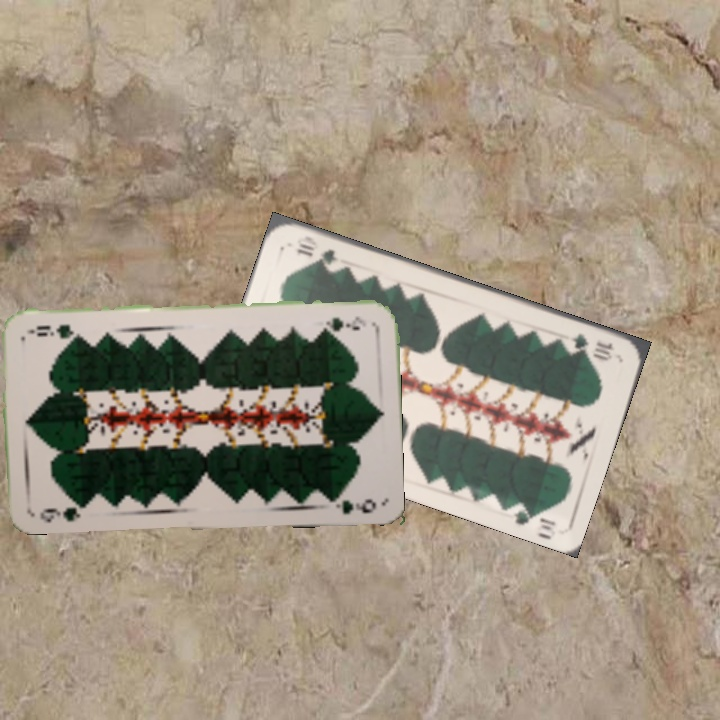G10: (567, 329, 617, 363)
G9: (36, 498, 88, 525), (319, 312, 368, 332)
